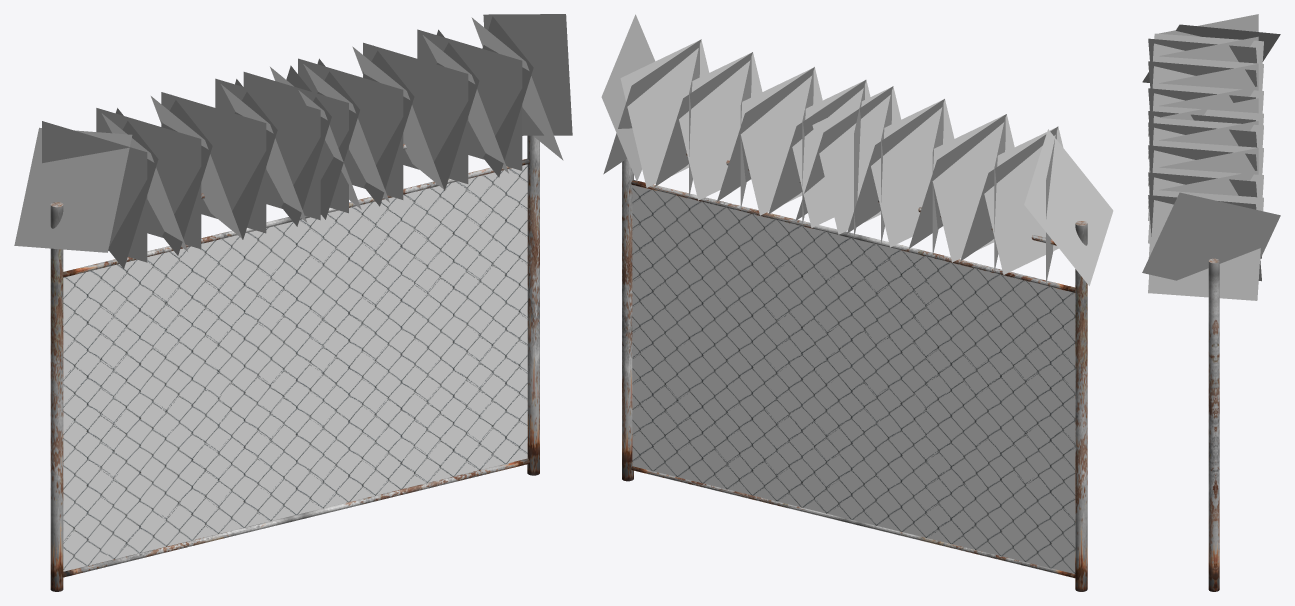
Rendered from Fence.fbx.
3 renders of one model, left to right at view 1: azimuth 30°, elevation 25°; view 2: azimuth 150°, elevation 25°; view 3: azimuth 270°, elevation 25°, orthographic. The views are drawn at different scales.
Parts seen in each view (by area): view 1: Fence_Net, Fence_RightPole, Fence_LeftPole; view 2: Fence_Net, Fence_RightPole, Fence_LeftPole; view 3: Fence_Net, Fence_LeftPole.
Part boxes in pixels (bbox=[...]): Fence_Net: bbox=[14, 14, 572, 577]; Fence_RightPole: bbox=[50, 202, 63, 591]; Fence_LeftPole: bbox=[527, 135, 539, 475]; Fence_Net: bbox=[601, 14, 1113, 578]; Fence_RightPole: bbox=[1075, 221, 1087, 591]; Fence_LeftPole: bbox=[622, 159, 633, 481]; Fence_Net: bbox=[1142, 14, 1280, 300]; Fence_LeftPole: bbox=[1208, 258, 1219, 591].
Size of the model in its own units: 129 by 113 by 35.32.
